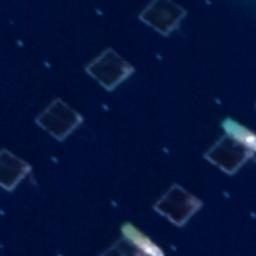square_cover: (82, 45, 135, 95), (34, 96, 84, 145), (153, 182, 204, 228), (203, 132, 254, 176), (137, 1, 190, 38), (1, 144, 32, 197)
